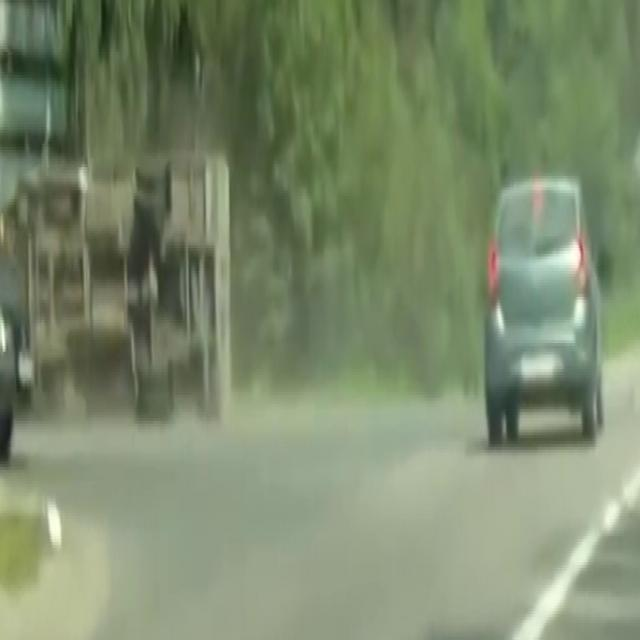accident: (5, 123, 246, 425)
